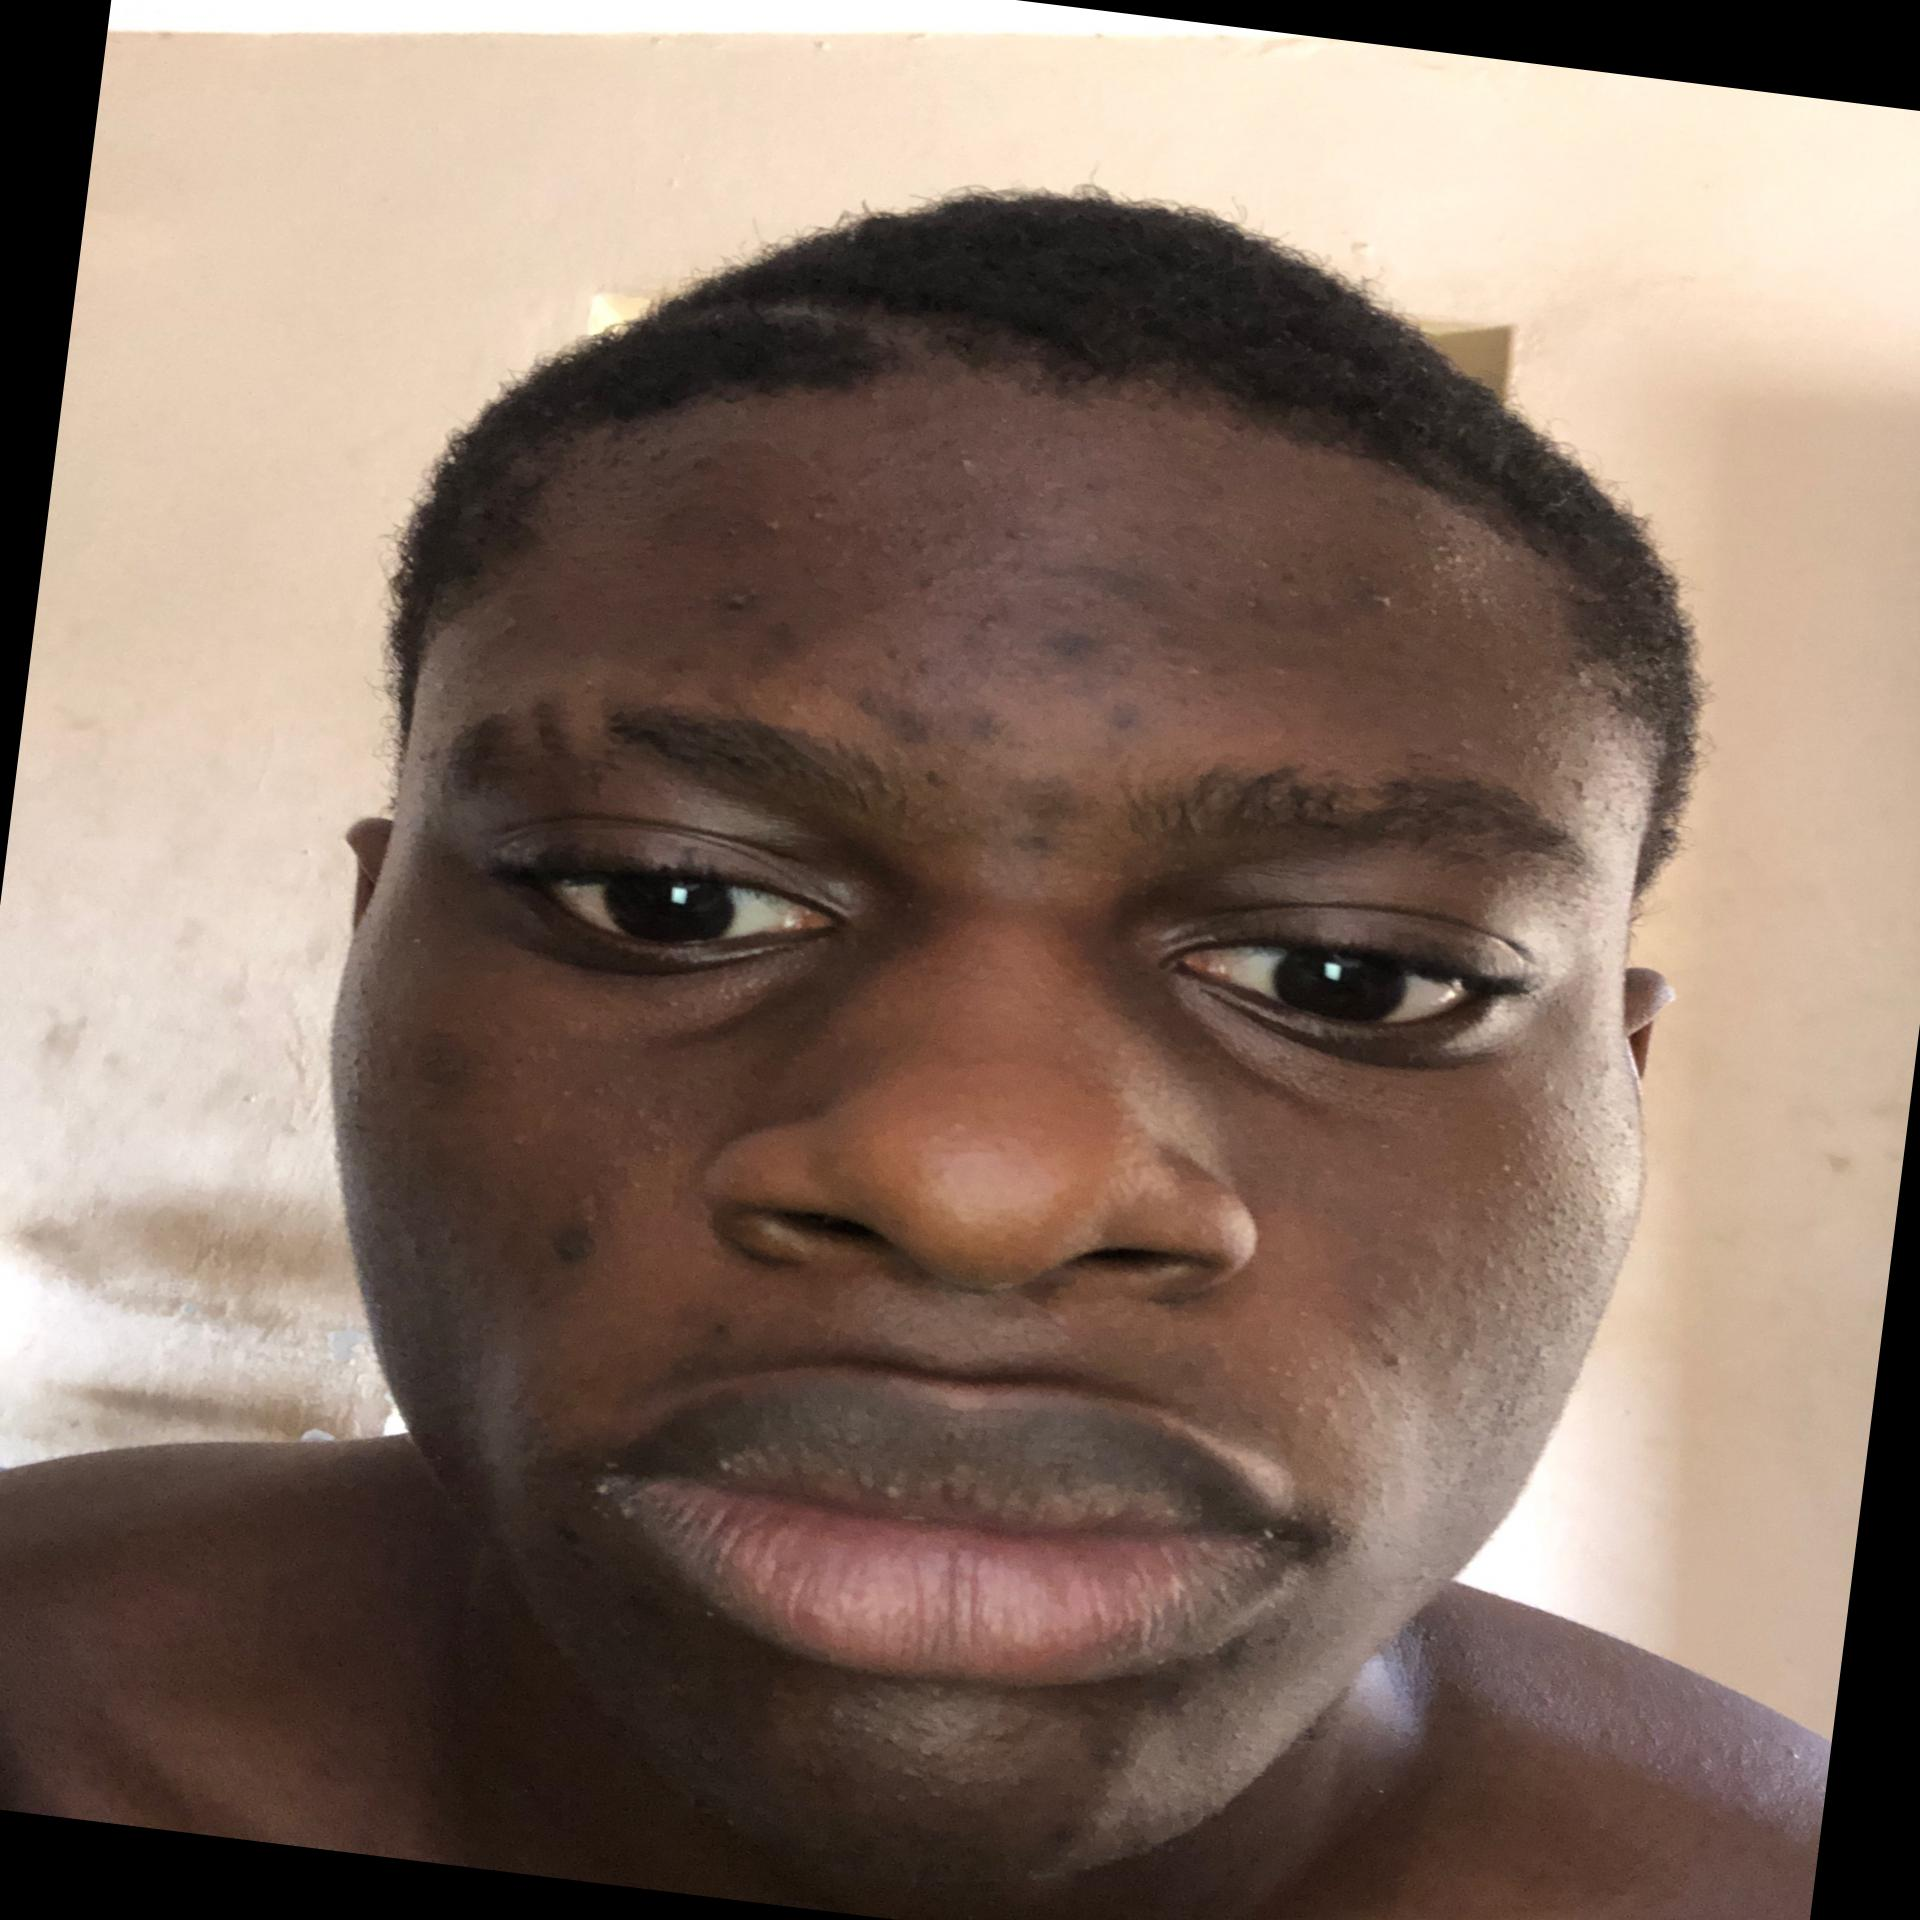Acne: (1053, 557, 1243, 659), (1238, 573, 1396, 640), (832, 673, 958, 754), (979, 761, 1104, 835), (399, 1018, 498, 1094), (1074, 1727, 1152, 1783), (540, 1215, 612, 1273), (745, 494, 825, 545), (951, 696, 1029, 747), (710, 577, 774, 628), (1095, 687, 1148, 747), (1030, 612, 1095, 656), (1004, 819, 1069, 862), (538, 1509, 601, 1551), (1032, 1806, 1088, 1851), (1359, 1349, 1405, 1391), (934, 440, 978, 480), (909, 568, 962, 601), (1561, 768, 1598, 809)
